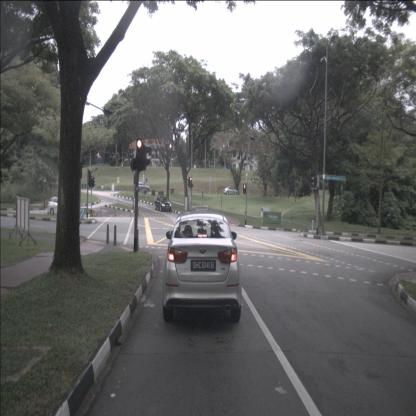vehicle-car: (162, 210, 242, 323), (47, 197, 69, 216), (154, 196, 172, 212), (136, 182, 150, 192), (224, 186, 238, 195)
